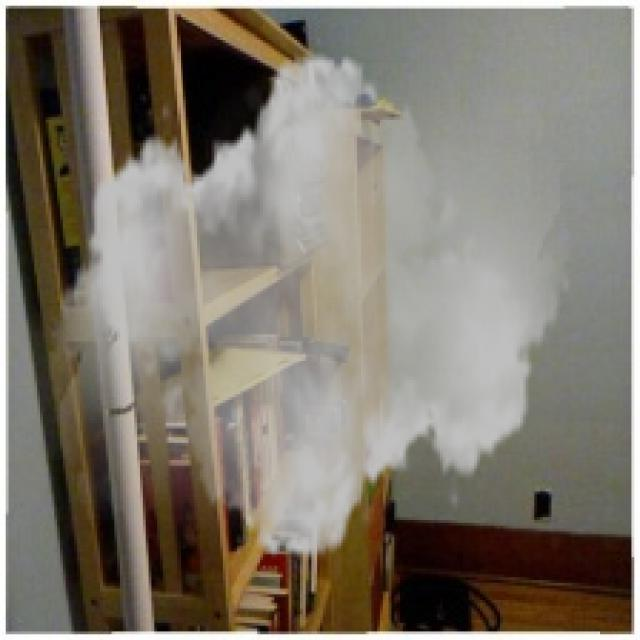Smoke: (49, 31, 572, 580)
